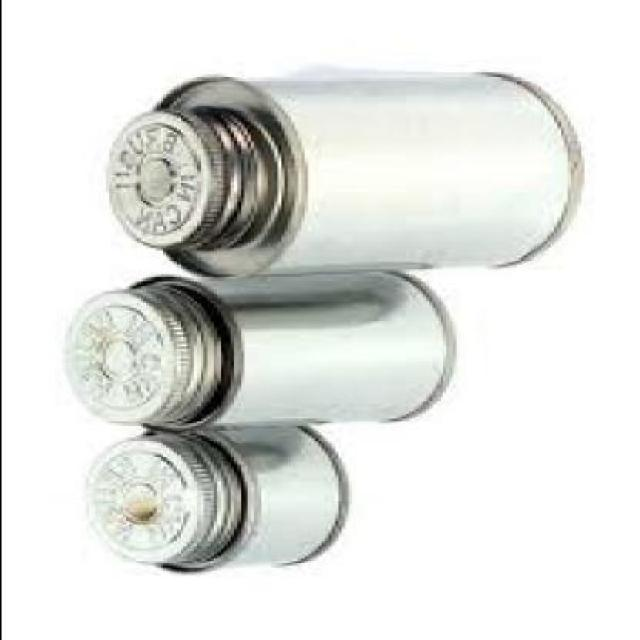METAL: (98, 70, 576, 276), (58, 267, 452, 433), (81, 425, 344, 573)
